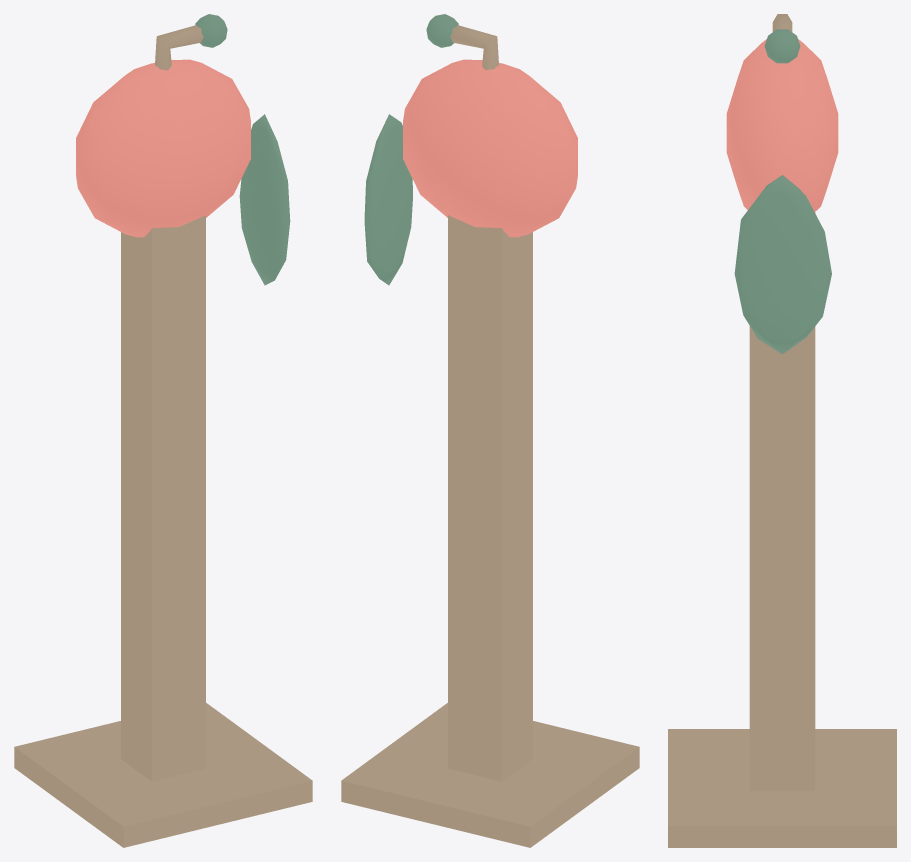
File: Blender_BallWasher_1.glb
The picture shows the model from 3 angles, left to right: view 1: azimuth 30°, elevation 25°; view 2: azimuth 150°, elevation 25°; view 3: azimuth 270°, elevation 25°; orthographic projection. The views are drawn at different scales.
Visible parts, largest first — view 1: Blender_BallWasher_1; view 2: Blender_BallWasher_1; view 3: Blender_BallWasher_1.
Part boxes in pixels (box(x1,y1,x2,y2)): Blender_BallWasher_1: box(14, 14, 312, 847); Blender_BallWasher_1: box(341, 14, 639, 847); Blender_BallWasher_1: box(668, 14, 896, 847).
Size of the model in its own units: 0.3041 by 1.07 by 0.28.
